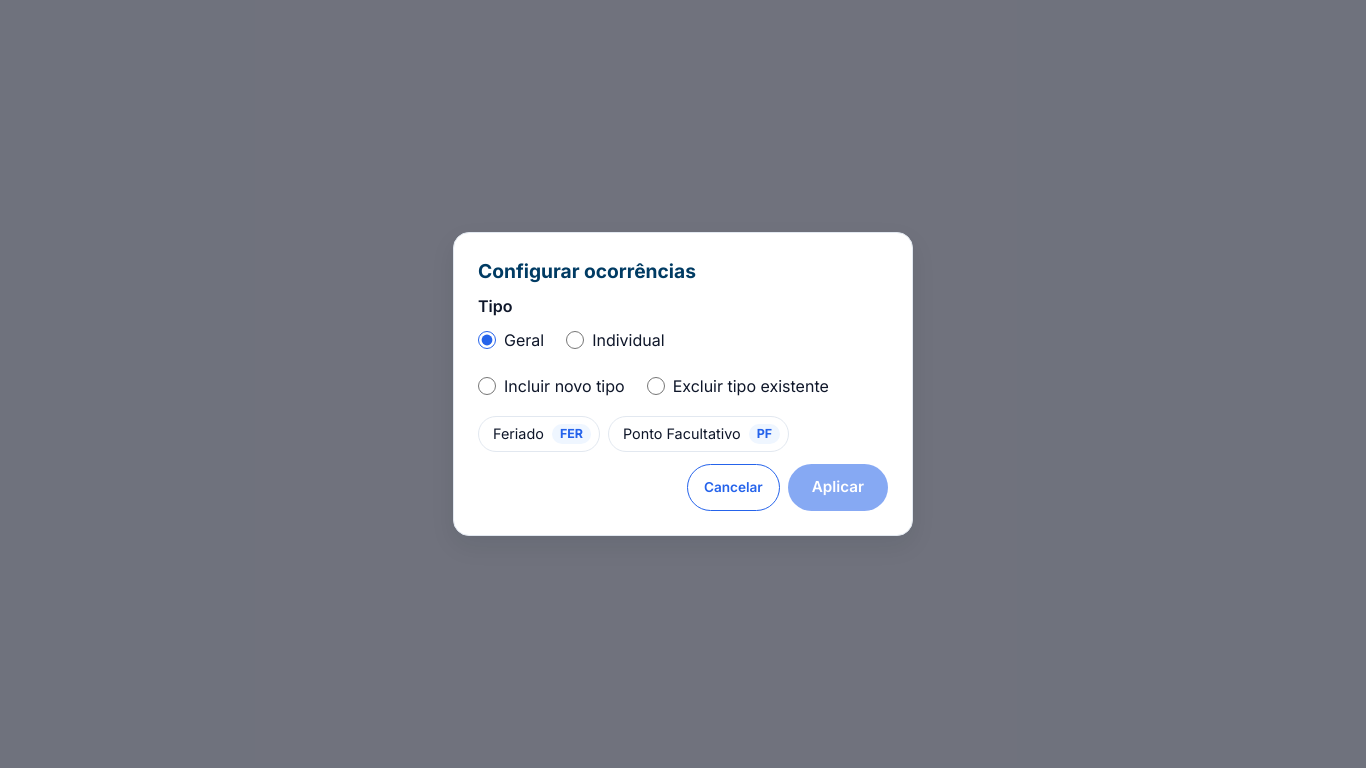
Test: ConfigurarTiposMarcacaoComponent › render — catálogo, escopo e rascunho › o estado vazio some quando há um pendente, mesmo sem tipo cadastrado
The image size is (1366, 768).
Click the radio button labelled "Individual" at (575, 340), box [566, 331, 584, 349]
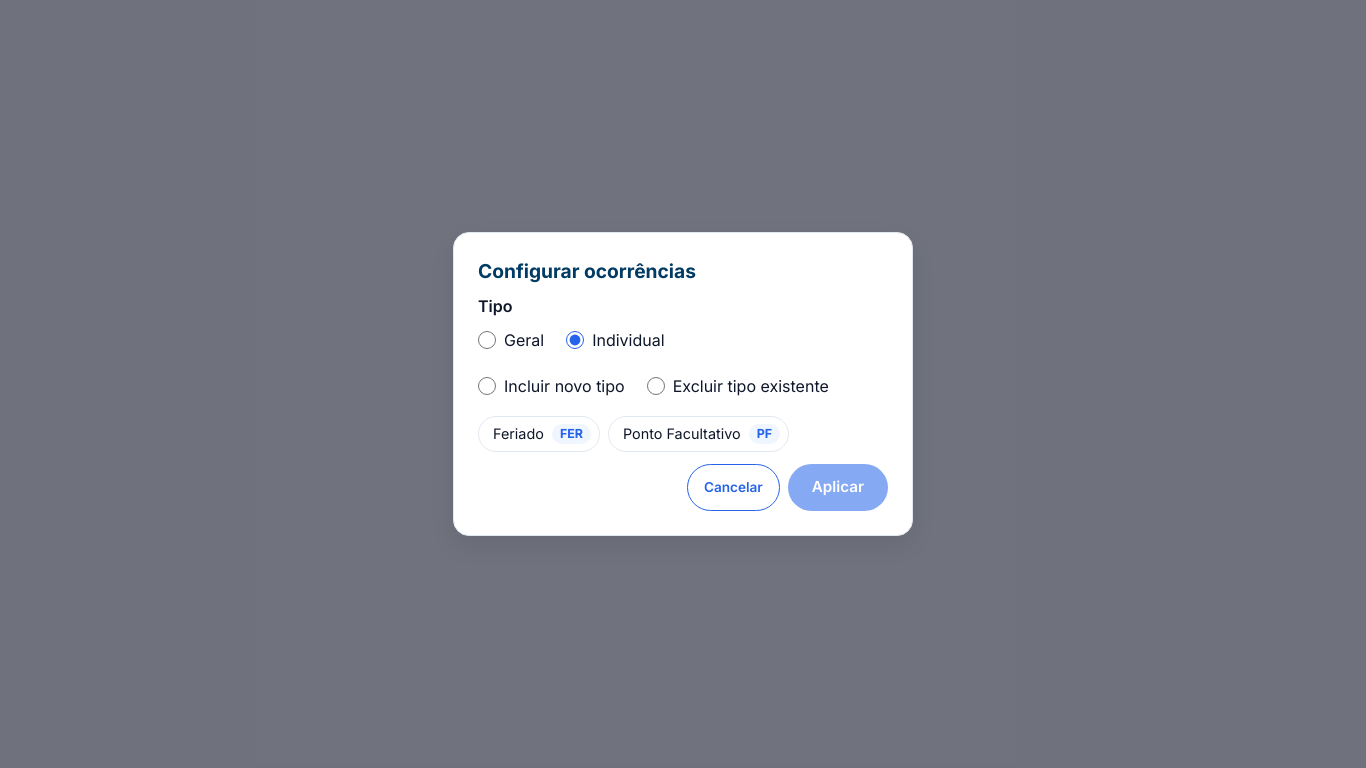
Click the radio button labelled "Incluir novo tipo" at (487, 386), box [478, 377, 496, 395]
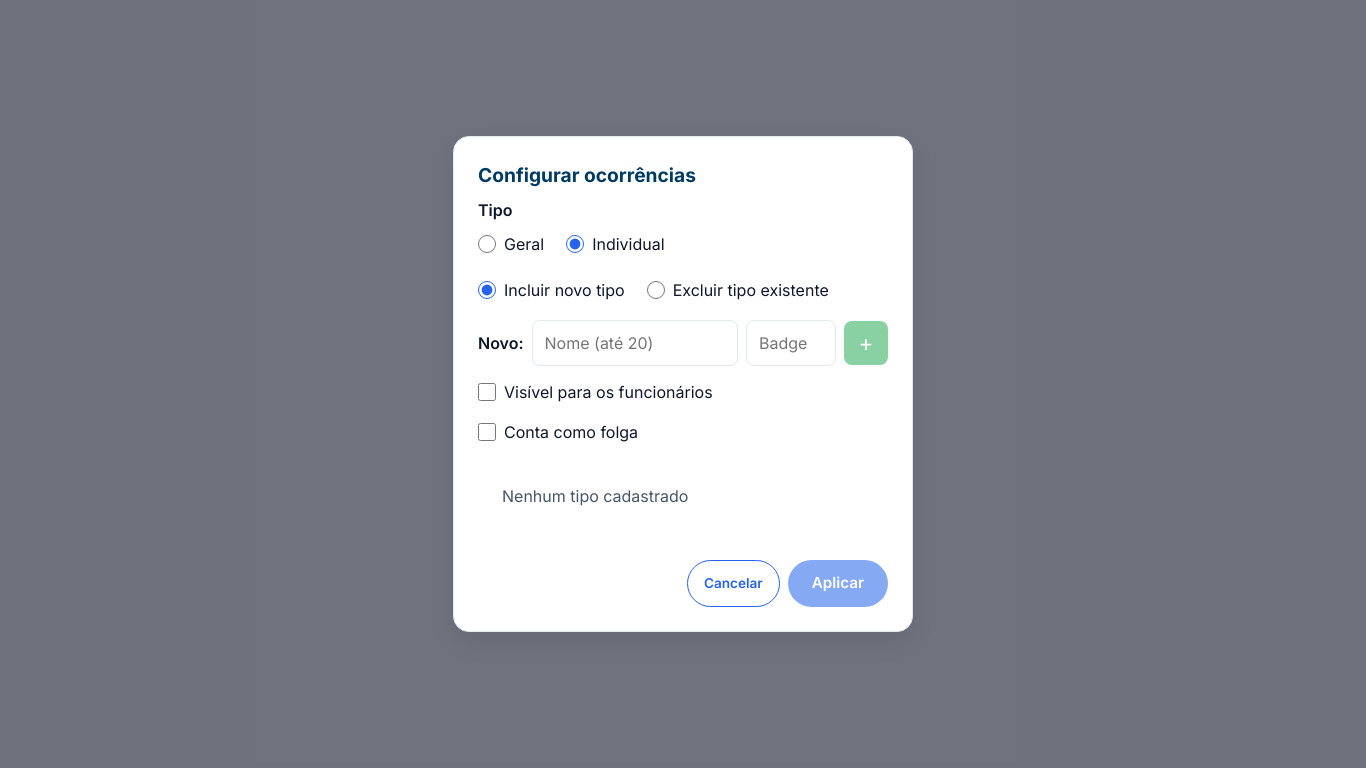
Type "Licença" into the field with placeholder "Nome (até 20)" at (635, 343), box [532, 320, 738, 366]
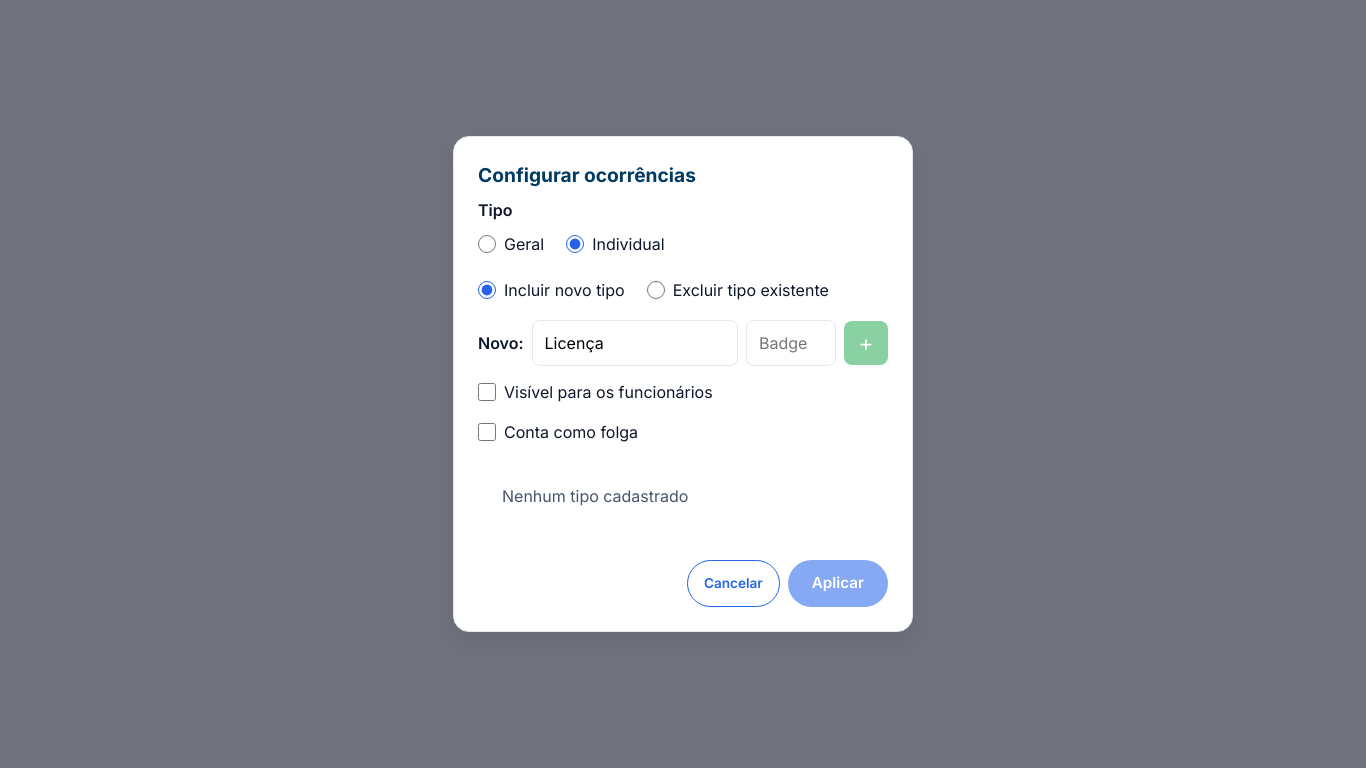
Type "LIC" into the field with placeholder "Badge" at (791, 343), box [746, 320, 836, 366]
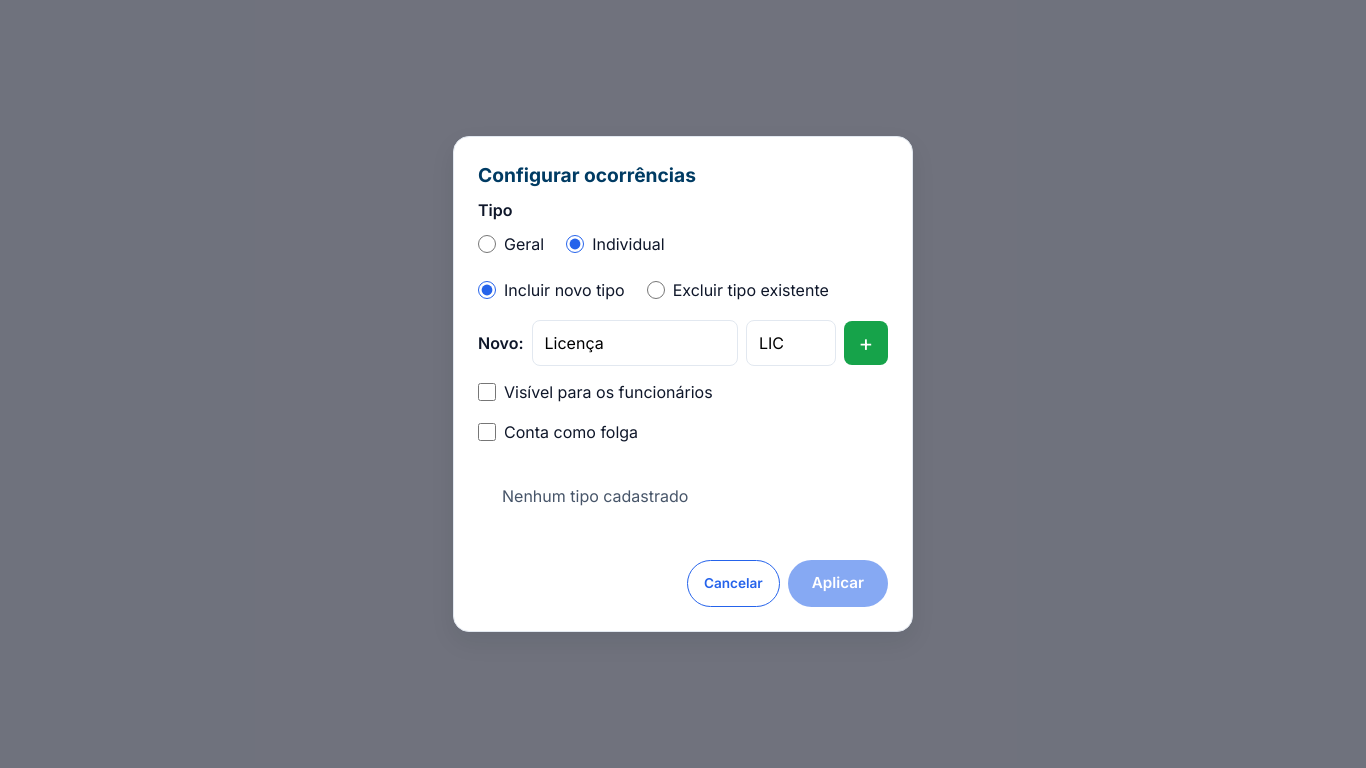
Click the button with class "btn-add" at (866, 343), box [844, 321, 888, 365]
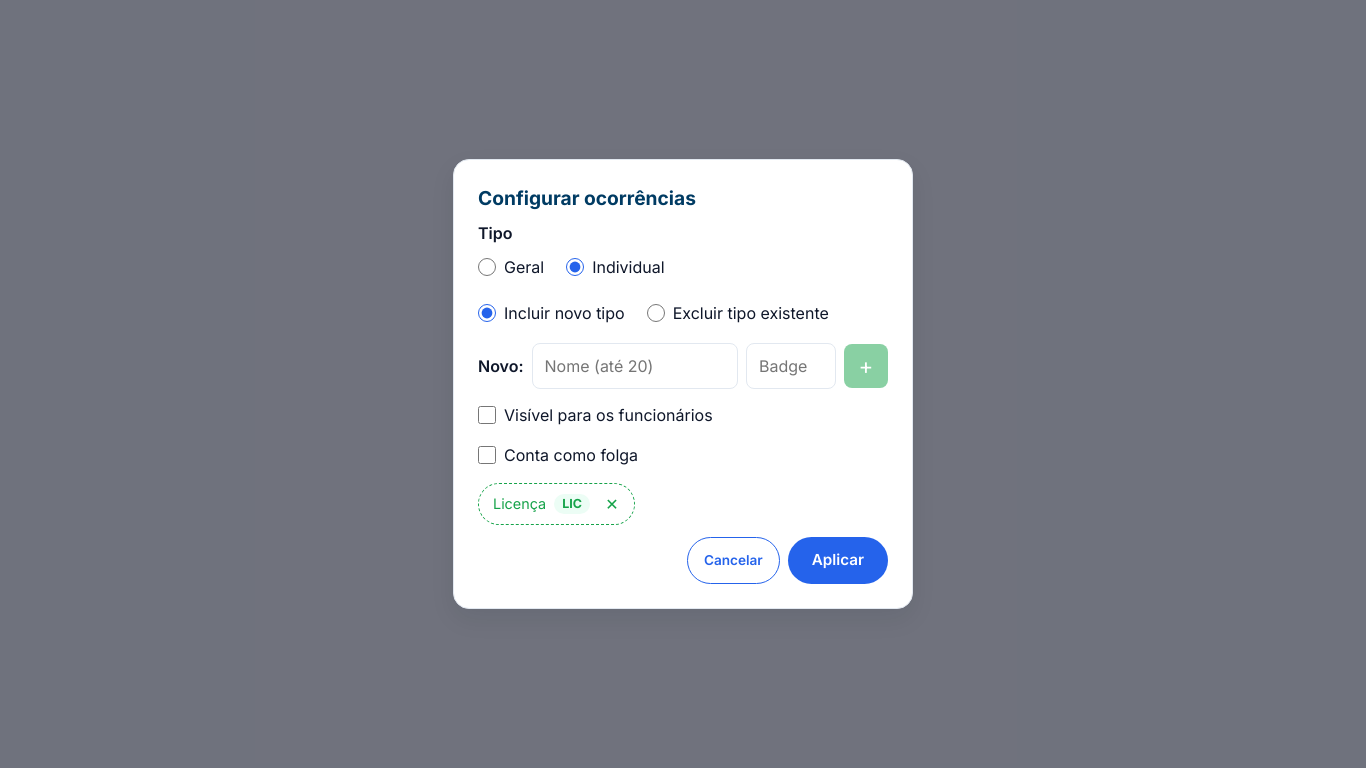
Expected: the text with class "empty-state" is gone
